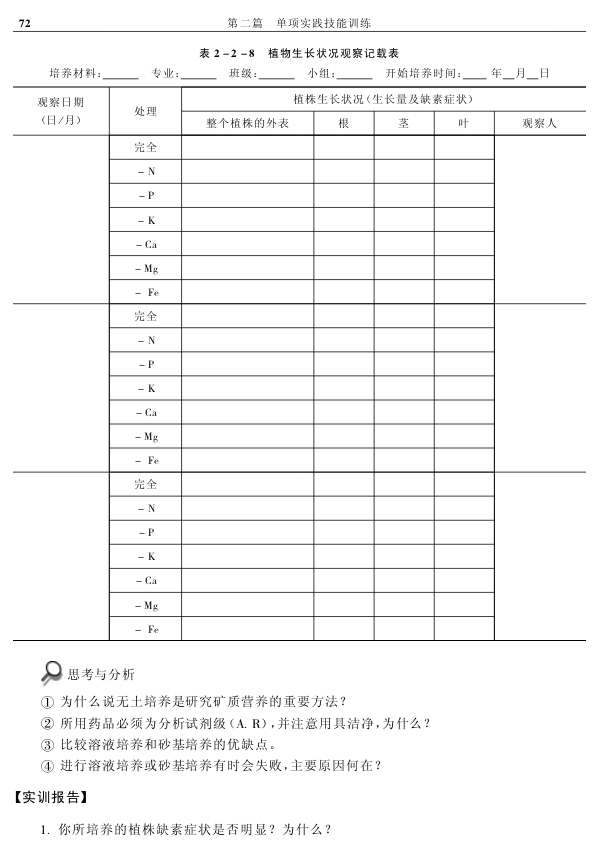table: (13, 86, 586, 640)
